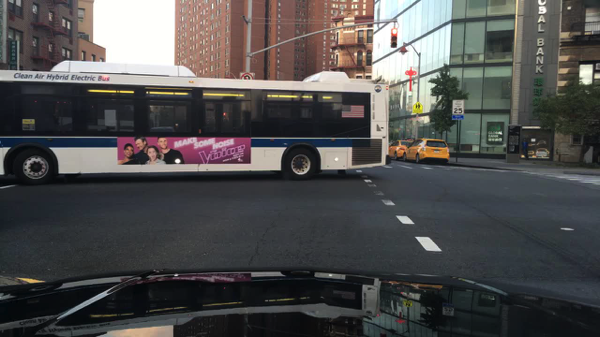bus: (0, 59, 391, 187)
car: (406, 138, 451, 165), (389, 138, 411, 162)
traffic light: (390, 28, 397, 48)
traffic sign: (450, 99, 464, 114), (411, 102, 423, 116), (240, 70, 256, 79), (452, 115, 465, 120)
